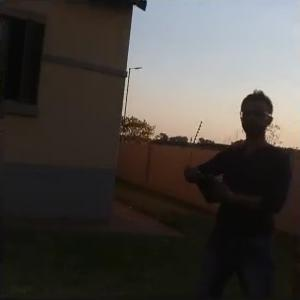follow: (179, 84, 297, 298)
